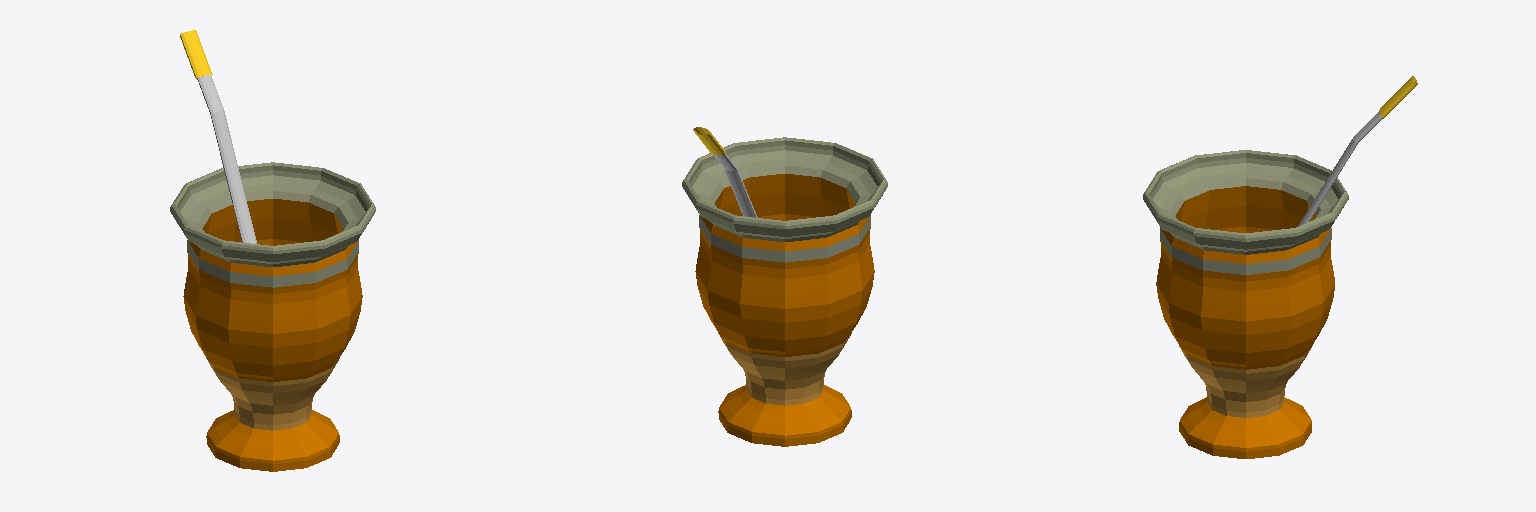
The model's file is cuiabomba.obj.
The picture shows the model from 3 angles: view 1: azimuth 30°, elevation 25°; view 2: azimuth 150°, elevation 25°; view 3: azimuth 270°, elevation 25°; orthographic projection.
Visible parts, largest first — view 1: Curve_Mesh, o_Tube_Bomba_Bomba; view 2: Curve_Mesh, o_Tube_Bomba_Bomba; view 3: Curve_Mesh, o_Tube_Bomba_Bomba.
Boxes of the visible parts, x1,y1,x2,y2 form: Curve_Mesh: [170, 162, 375, 471]; o_Tube_Bomba_Bomba: [180, 30, 256, 243]; Curve_Mesh: [682, 137, 887, 446]; o_Tube_Bomba_Bomba: [693, 127, 757, 217]; Curve_Mesh: [1143, 150, 1348, 458]; o_Tube_Bomba_Bomba: [1298, 76, 1417, 226].
Bounding box in the file's own units: 9.45 × 17.84 × 12.57.